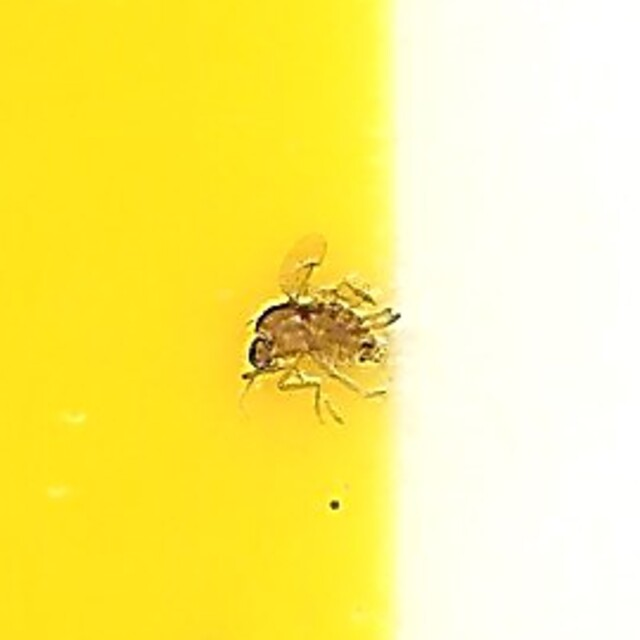Brachycera: (237, 237, 403, 403)
